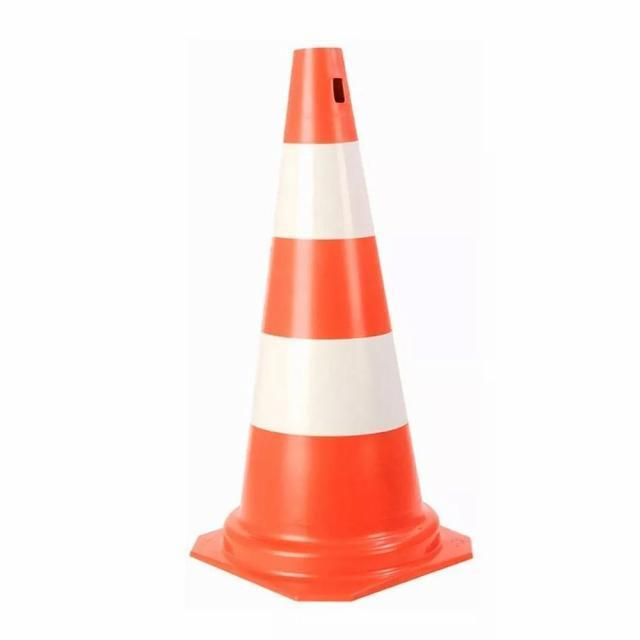traffic cone: (191, 46, 474, 600)
